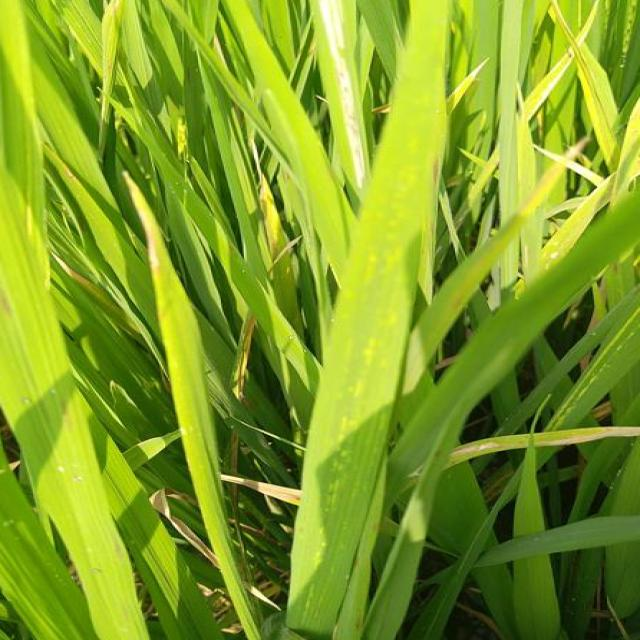Leaf Streak: (324, 0, 366, 207), (448, 427, 640, 467), (55, 259, 136, 333), (234, 306, 255, 403), (263, 192, 287, 268), (139, 203, 162, 278), (254, 484, 303, 509)
